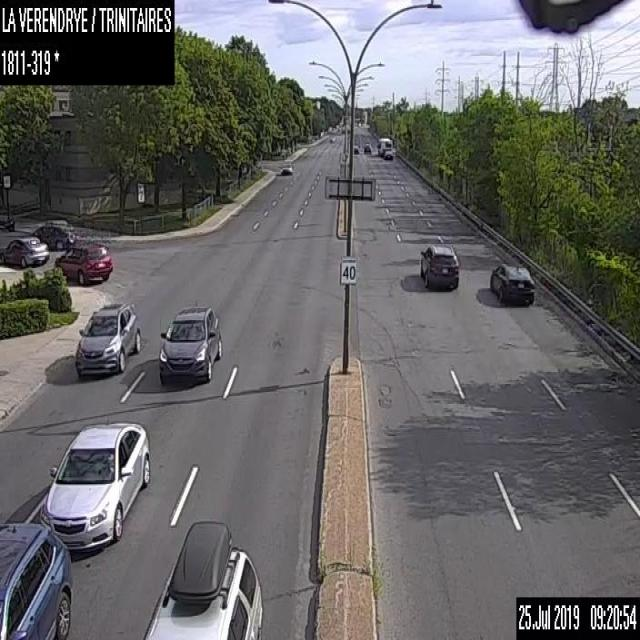bus: (376, 136, 392, 159)
vehicle: (40, 421, 150, 549), (144, 518, 261, 638), (0, 520, 72, 639), (157, 304, 223, 384), (73, 301, 142, 375), (53, 242, 114, 284), (418, 242, 458, 290), (488, 263, 536, 300), (0, 234, 49, 266), (31, 219, 80, 250), (281, 161, 292, 175), (0, 634, 30, 638), (383, 147, 392, 159), (363, 143, 371, 153), (353, 145, 359, 153)
